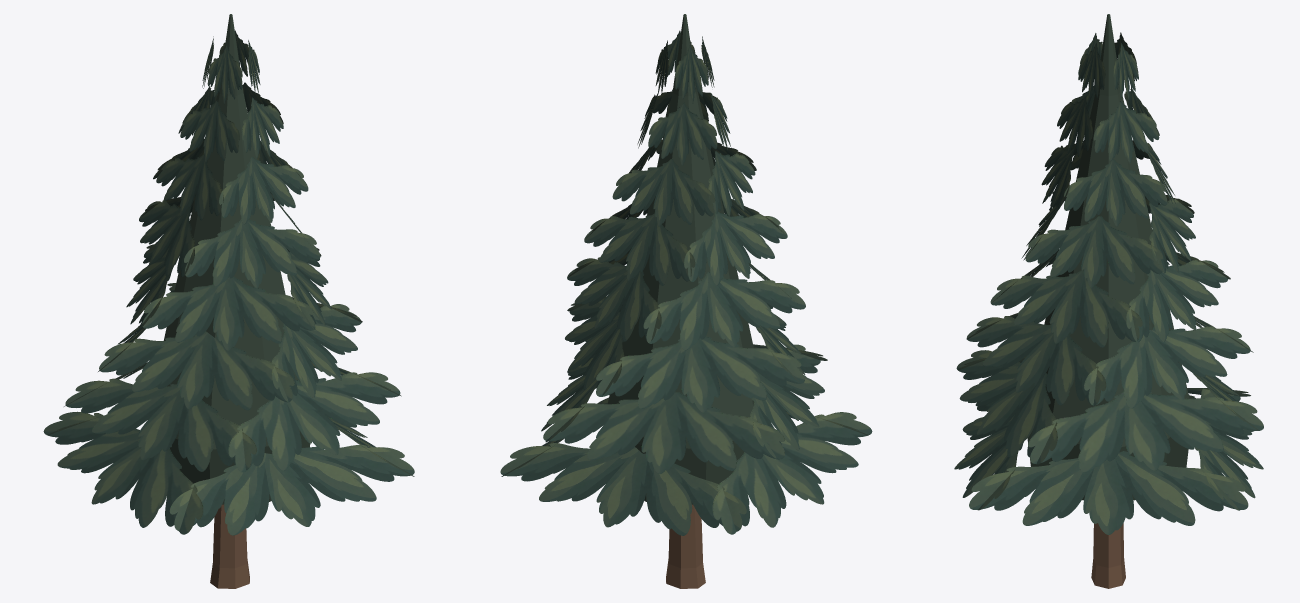
File: pine.glb
The picture shows the model from 3 angles, left to right: view 1: azimuth 30°, elevation 25°; view 2: azimuth 150°, elevation 25°; view 3: azimuth 270°, elevation 25°; orthographic projection.
Visible parts, largest first — view 1: Overlapping hanging evergreen boughs, Tapered exposed pine trunk; view 2: Overlapping hanging evergreen boughs, Tapered exposed pine trunk; view 3: Overlapping hanging evergreen boughs, Tapered exposed pine trunk.
Boxes of the visible parts, bbox=[...] form: Overlapping hanging evergreen boughs: bbox=[43, 14, 414, 535]; Tapered exposed pine trunk: bbox=[210, 504, 249, 588]; Overlapping hanging evergreen boughs: bbox=[500, 14, 872, 535]; Tapered exposed pine trunk: bbox=[666, 504, 705, 588]; Overlapping hanging evergreen boughs: bbox=[954, 14, 1263, 534]; Tapered exposed pine trunk: bbox=[1091, 523, 1125, 588].
Size of the model in its own units: 3.56 by 6.3 by 3.59.
Materials: 2 (1 with a texture image).
